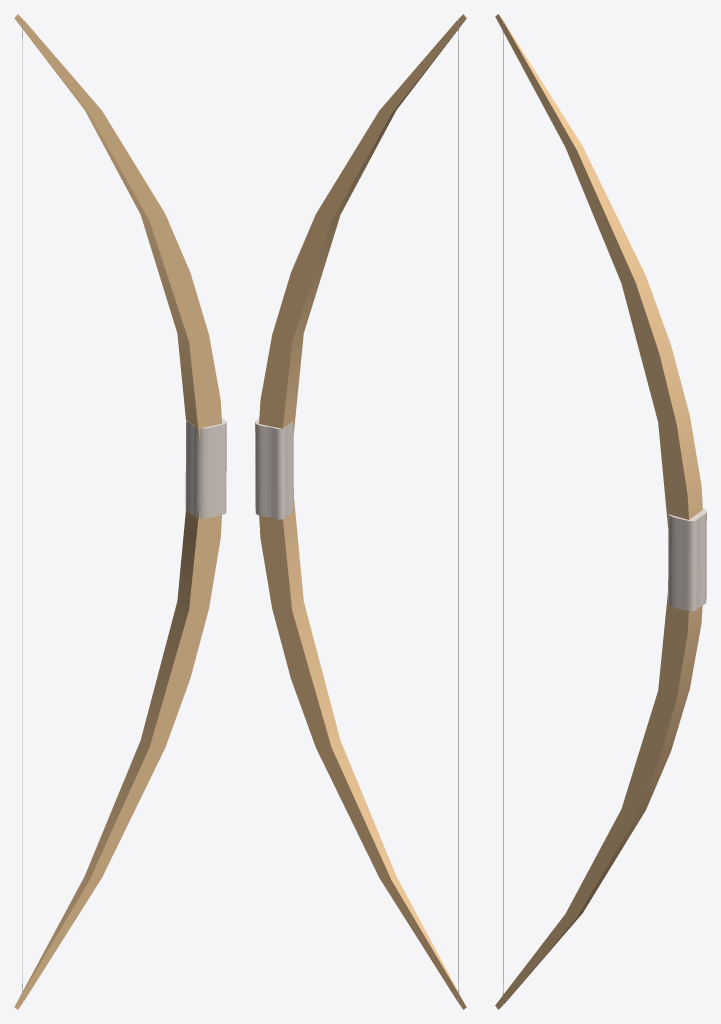
File: SimpleBow.obj
The picture shows the model from 3 angles, left to right: view 1: azimuth 30°, elevation 25°; view 2: azimuth 150°, elevation 25°; view 3: azimuth 330°, elevation 25°; orthographic projection.
Visible parts, largest first — view 1: object_7, object_2, object_6, object_3; view 2: object_7, object_2, object_6, object_3; view 3: object_2, object_7, object_6, object_3.
Part boxes in pixels (box(x1,y1,x2,y2)): object_7: box(14, 506, 221, 1009); object_2: box(14, 14, 221, 443); object_6: box(185, 418, 226, 518); object_3: box(22, 43, 22, 978); object_7: box(259, 499, 466, 1009); object_2: box(259, 14, 466, 433); object_6: box(255, 418, 293, 519); object_3: box(458, 42, 458, 979); object_2: box(495, 14, 702, 528); object_7: box(495, 593, 702, 1009); object_6: box(668, 508, 706, 611); object_3: box(503, 45, 503, 981).
Size of the model in its own units: 0.2774 by 1.28 by 0.0382.
